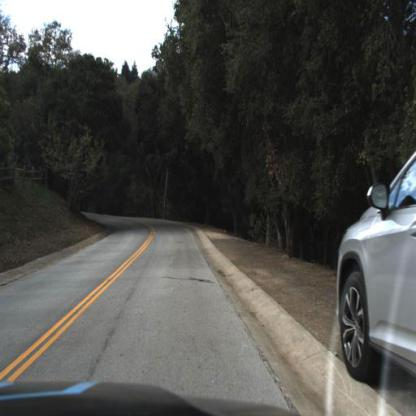car: (336, 150, 416, 385)
